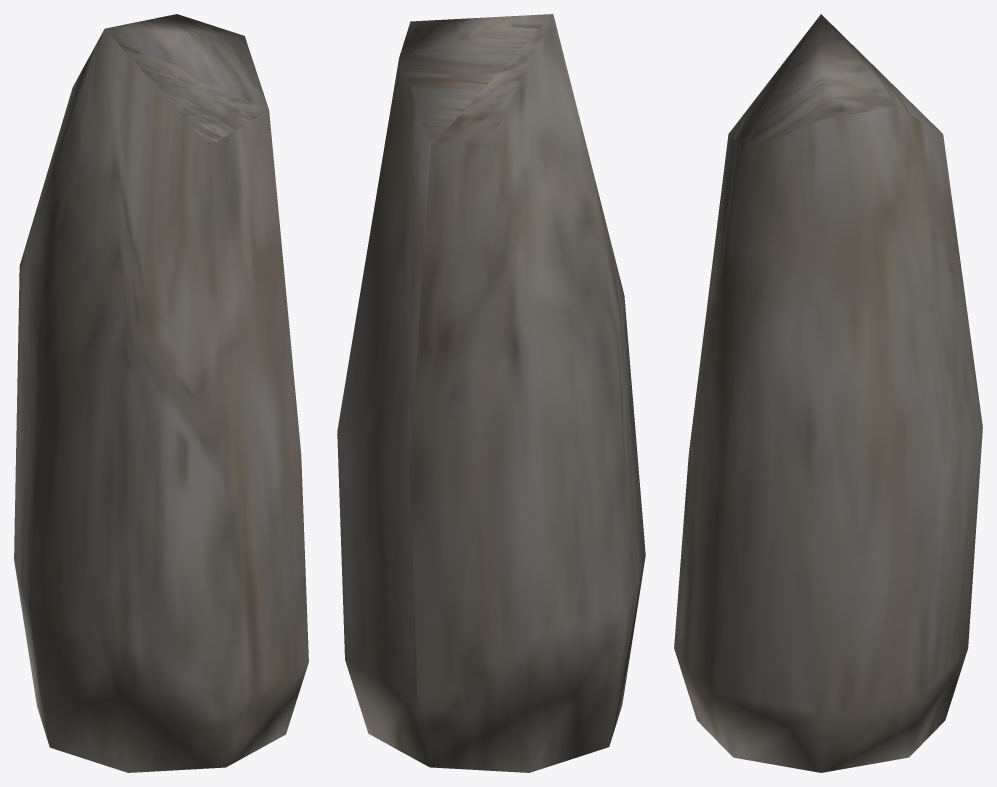
File: ruin1-s.glb
3 renders of one model, left to right at view 1: azimuth 30°, elevation 25°; view 2: azimuth 150°, elevation 25°; view 3: azimuth 270°, elevation 25°, orthographic. The views are drawn at different scales.
Visible parts, largest first — view 1: ruin1; view 2: ruin1; view 3: ruin1.
Part boxes in pixels (x1,y1,x2,y2): ruin1: (14, 14, 308, 772); ruin1: (337, 14, 645, 772); ruin1: (674, 14, 982, 772).
Bounding box in the file's own units: 2 × 5.1 × 2.1.
Materials: 1 (1 with a texture image).
